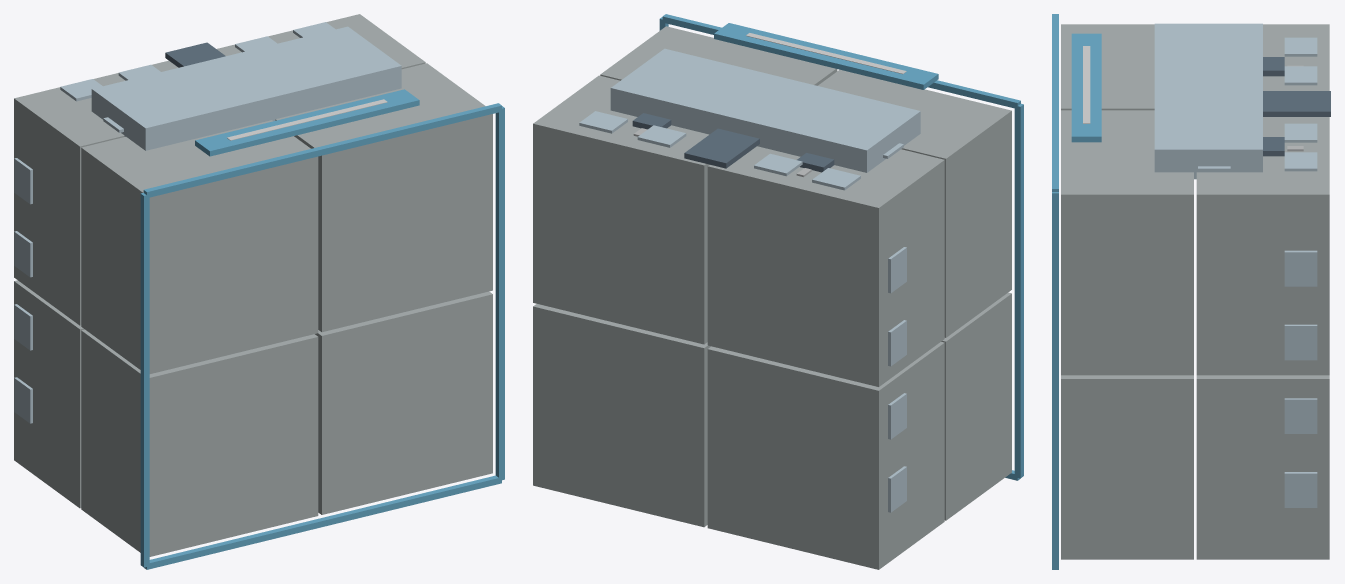
File: building-hardware-shop.glb
The picture shows the model from 3 angles, left to right: view 1: azimuth 30°, elevation 25°; view 2: azimuth 150°, elevation 25°; view 3: azimuth 270°, elevation 25°; orthographic projection.
Parts seen in each view (by area): view 1: world; view 2: world; view 3: world.
Boxes of the visible parts, bbox=[...] form: world: bbox=[14, 14, 504, 569]; world: bbox=[533, 14, 1023, 569]; world: bbox=[1052, 14, 1330, 569].
Bounding box in the file's own units: 15.5 × 16.18 × 10.27.
